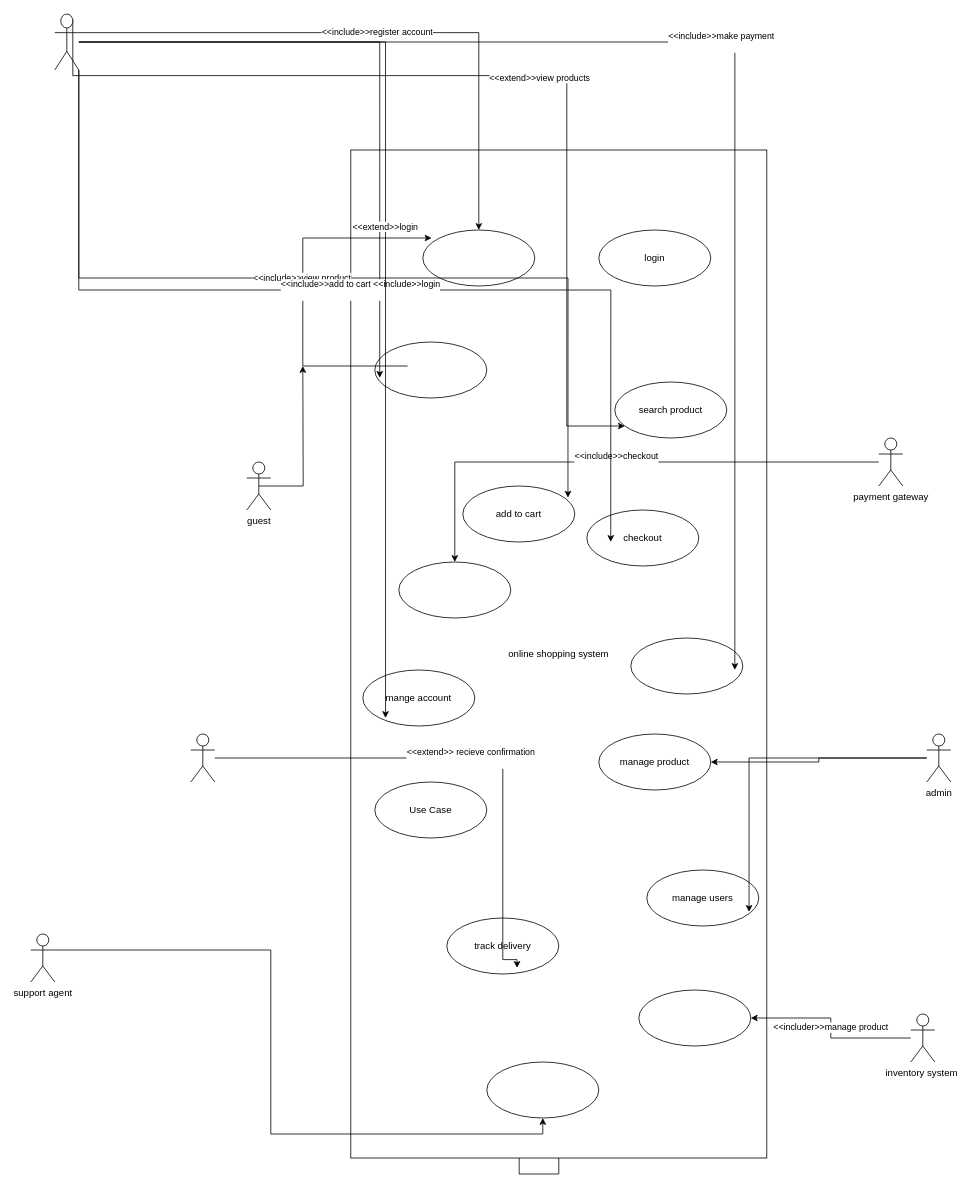
The diagram is 974 pixels wide and 1194 high, and some of its shapes have lost their labels. The shapes that lost their labels are listed below. From the top down, each one's centre as x and y in pixels, then its label:
At (x=66, y=41): "customer".
At (x=478, y=257): "register account".
At (x=430, y=369): "view product".
At (x=454, y=589): "make payment".
At (x=686, y=665): "recieve confirmation".
At (x=202, y=757): "delivery service".
At (x=694, y=1017): "synce inventory".
At (x=542, y=1089): "handle support".
